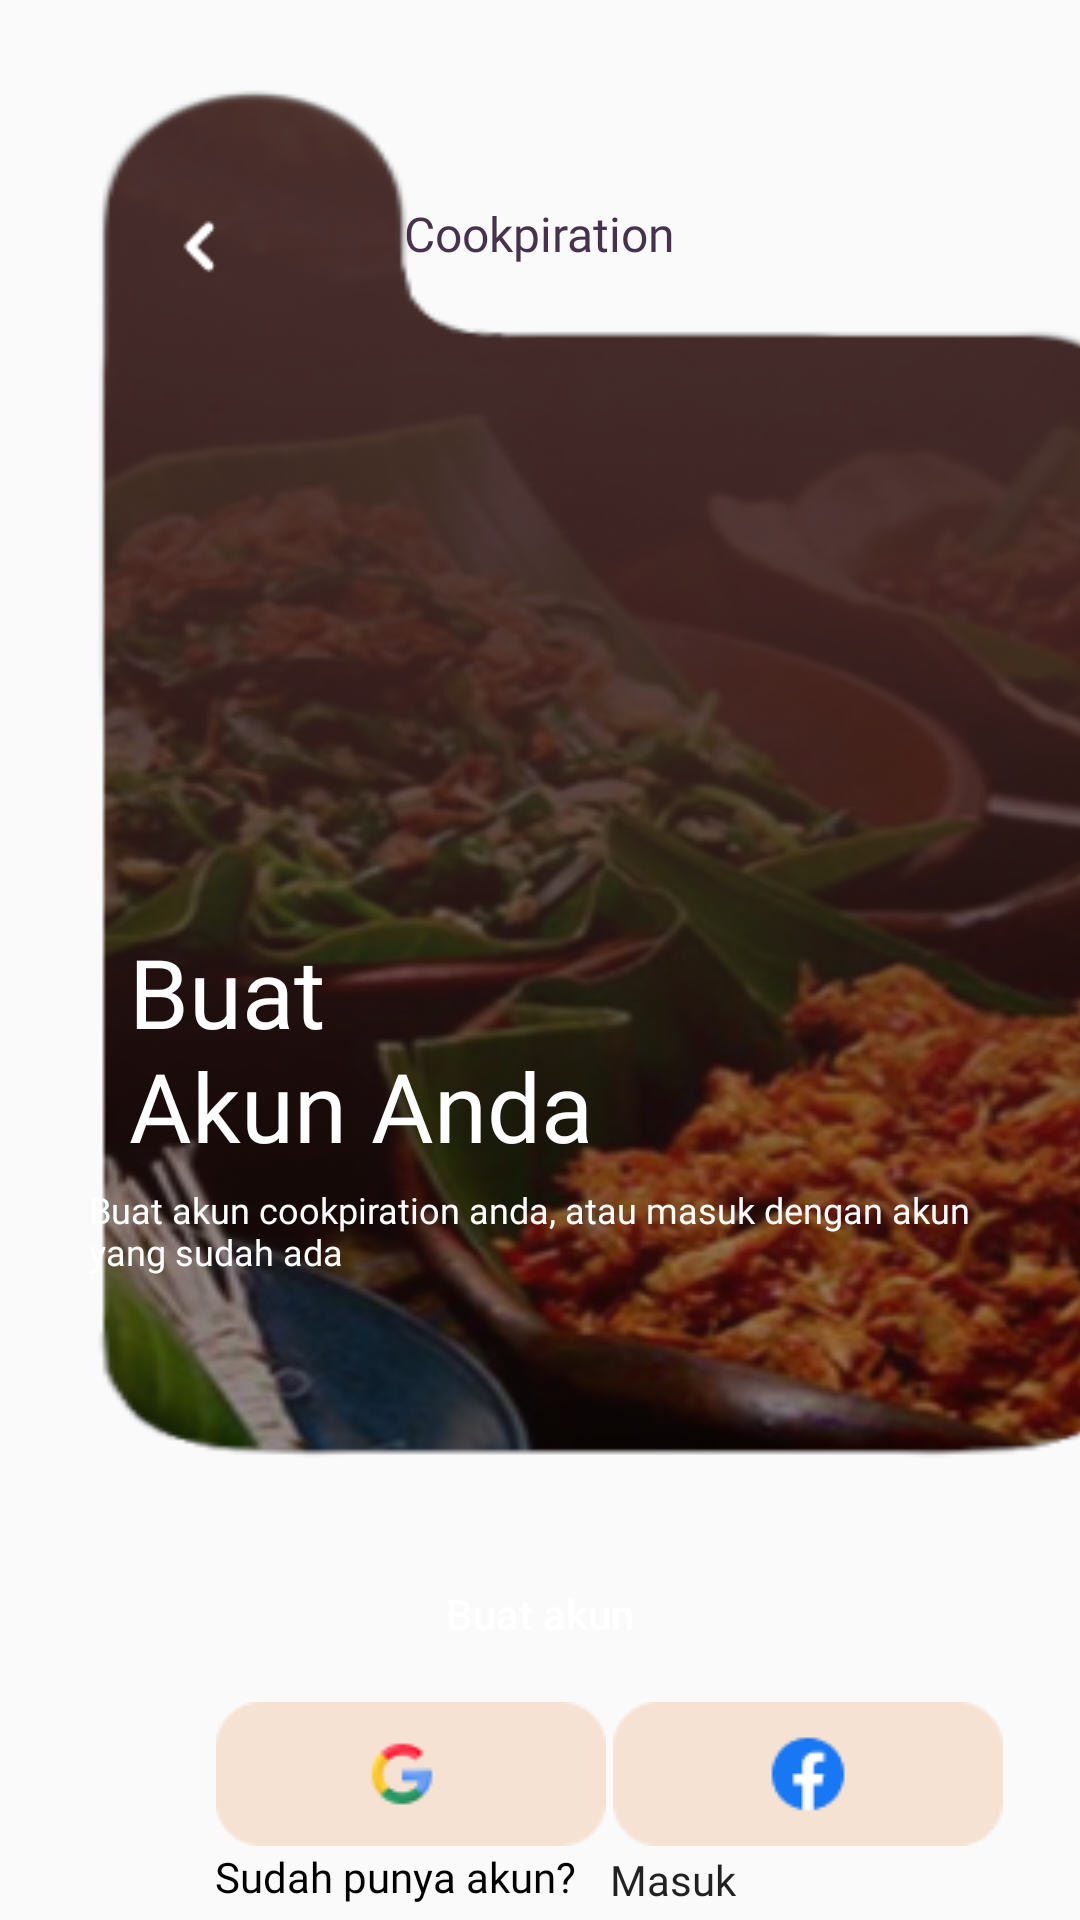

Named icons in this screenshot (1080px x 1920px) and their bounding boxes, [left=x1, top=y1, right=x2, bottom=y2]:
backwhite: [left=183, top=220, right=215, bottom=272]
